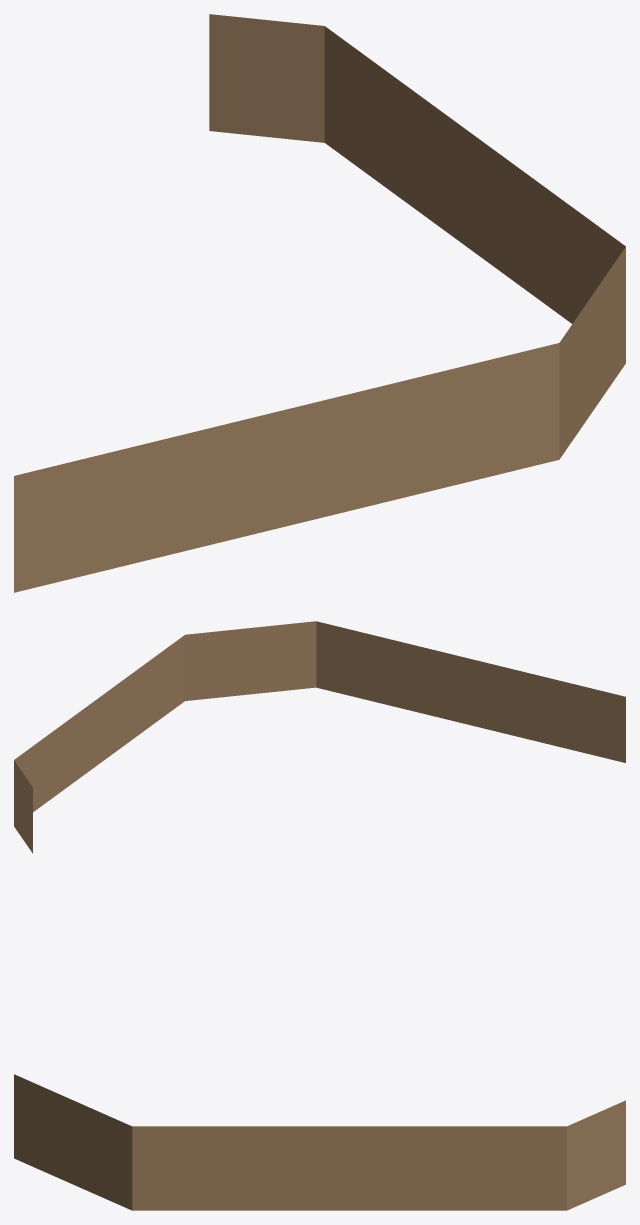
The model's file is 1362-Buildings-shell-pieces-facade-bay-wall-round-an-opening-reveals-sill-head-emitBa.glb.
3 views of the same model, one above another, from view 1: azimuth 30°, elevation 25°; view 2: azimuth 150°, elevation 25°; view 3: azimuth 270°, elevation 25° (orthographic). The views are drawn at different scales.
Parts seen in each view (by area): view 1: emitBay; view 2: emitBay; view 3: emitBay.
Boxes of the visible parts, x1,y1,x2,y2 form: emitBay: (14,14,625,592); emitBay: (14,621,625,853); emitBay: (14,1074,625,1210).
Size of the model in its own units: 18.94 by 3.05 by 20.06.
